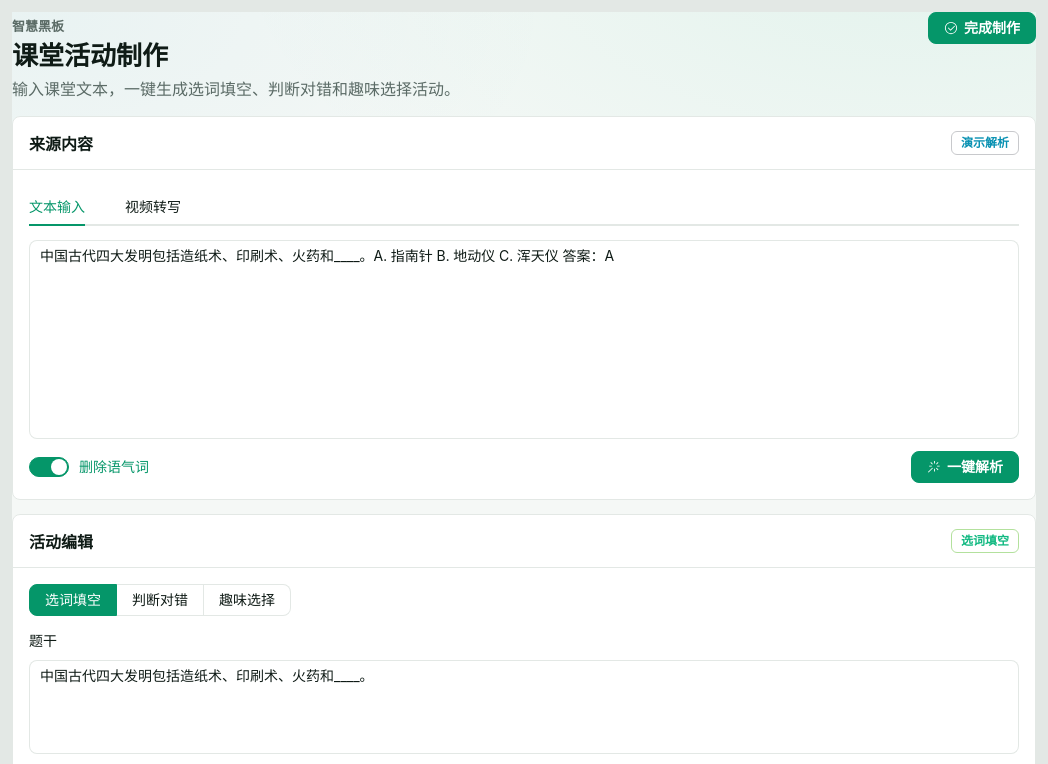
Test: SmartBlackboardView › video transcription tab shows disabled segment deletion capability
Step 1. Click the tab with test id "blackboard-tab-video" → point(153, 206), box [125,198,181,215]
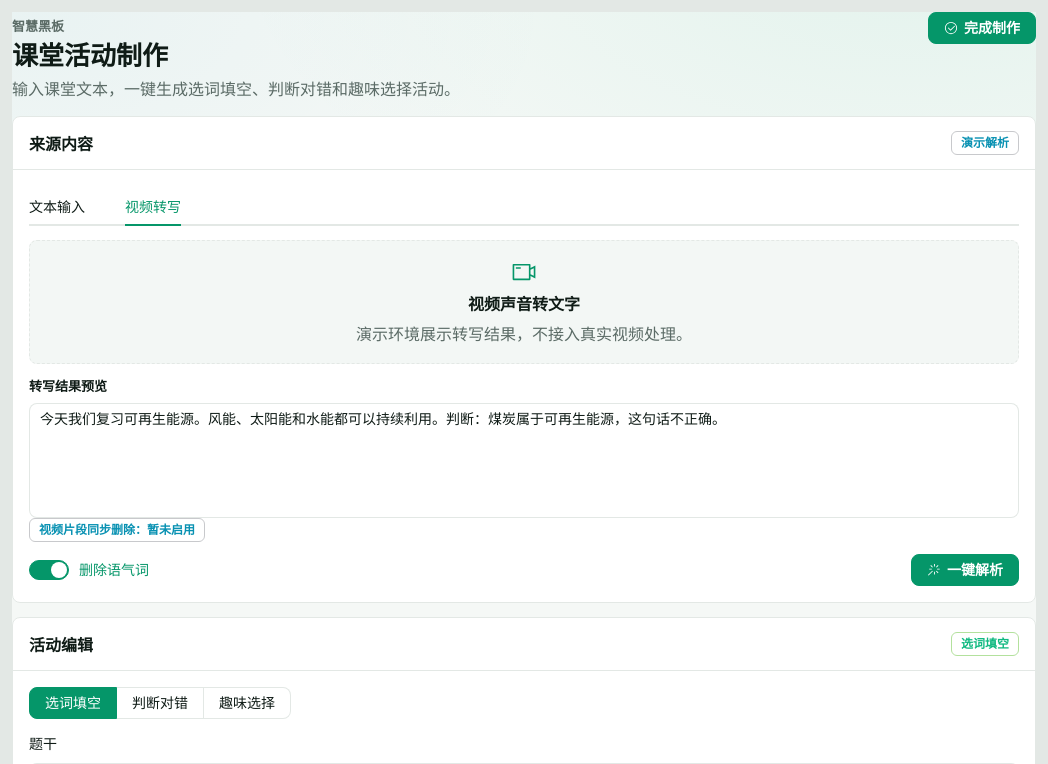
Expected: the text "视频片段同步删除：暂未启用" is shown, [39,524,195,536]
Expected: the text "转写结果预览" is shown, [29,378,107,394]
